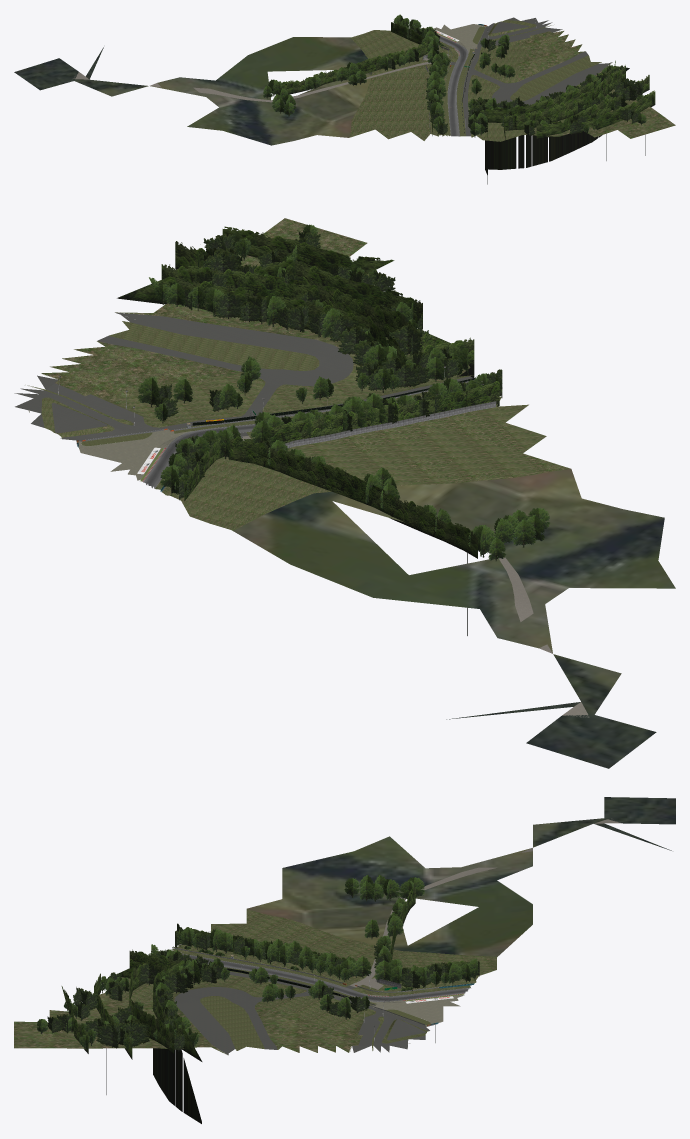
3 renders of one model, top to bottom at view 1: azimuth 30°, elevation 25°; view 2: azimuth 150°, elevation 25°; view 3: azimuth 270°, elevation 25°, orthographic. The views are drawn at different scales.
Visible parts, largest first — view 1: tile_t05; view 2: tile_t05; view 3: tile_t05.
Part boxes in pixels (x1,y1,x2,y2): tile_t05: (14,14,675,184); tile_t05: (14,218,675,768); tile_t05: (14,797,675,1123).
Size of the model in its own units: 625 by 110 by 592.
34 materials, 34 textured.
